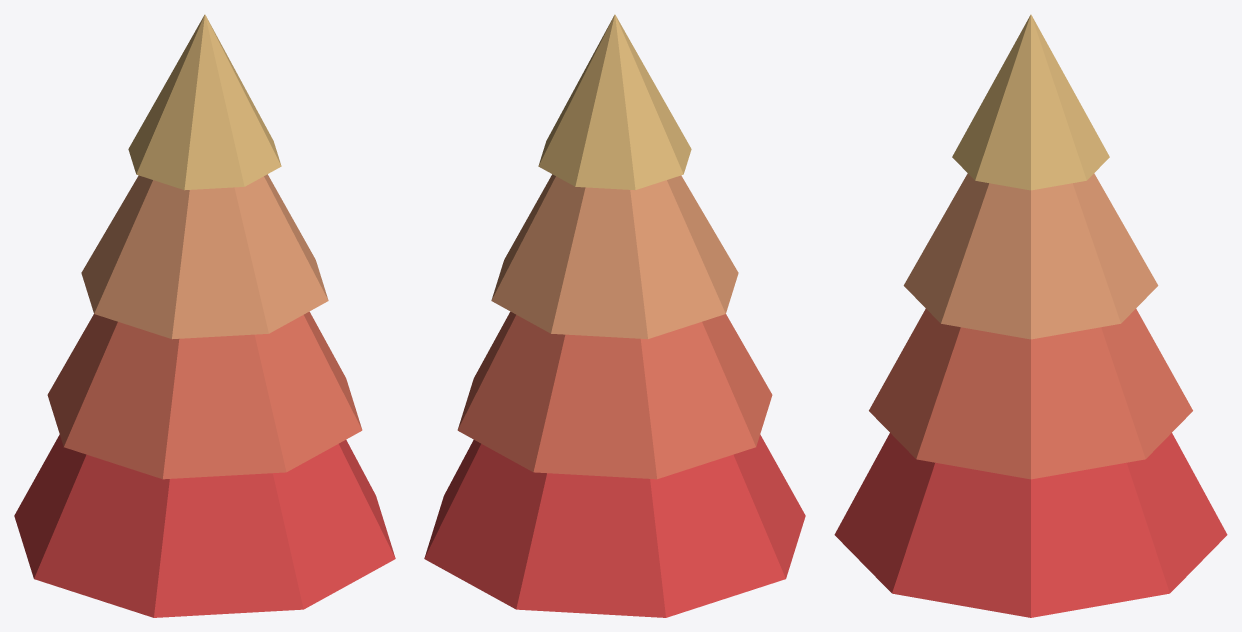
Rendered from 01_03Tree_Red.fbx.
3 views of the same model, side by side, from view 1: azimuth 30°, elevation 25°; view 2: azimuth 150°, elevation 25°; view 3: azimuth 270°, elevation 25° (orthographic).
Parts seen in each view (by area): view 1: Cone.001; view 2: Cone.001; view 3: Cone.001.
Boxes of the visible parts, bbox=[...] form: Cone.001: bbox=[14, 14, 395, 617]; Cone.001: bbox=[424, 14, 805, 617]; Cone.001: bbox=[834, 14, 1227, 617].
Size of the model in its own units: 133 by 195 by 133.
